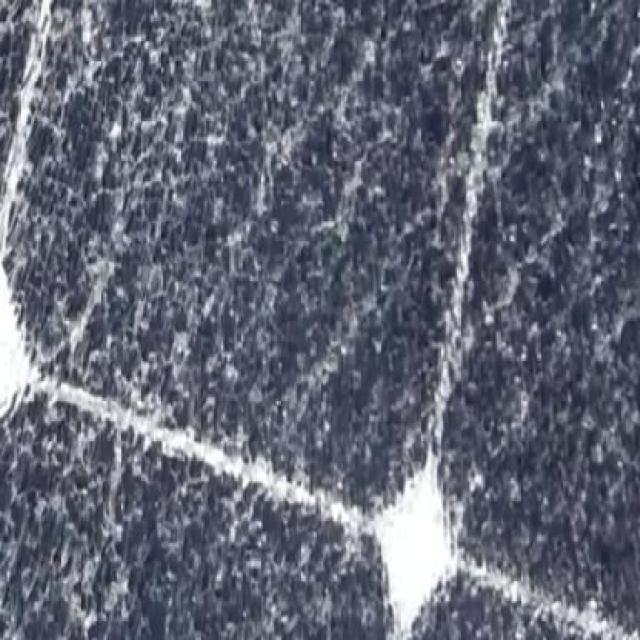cracked: (3, 2, 640, 636)
